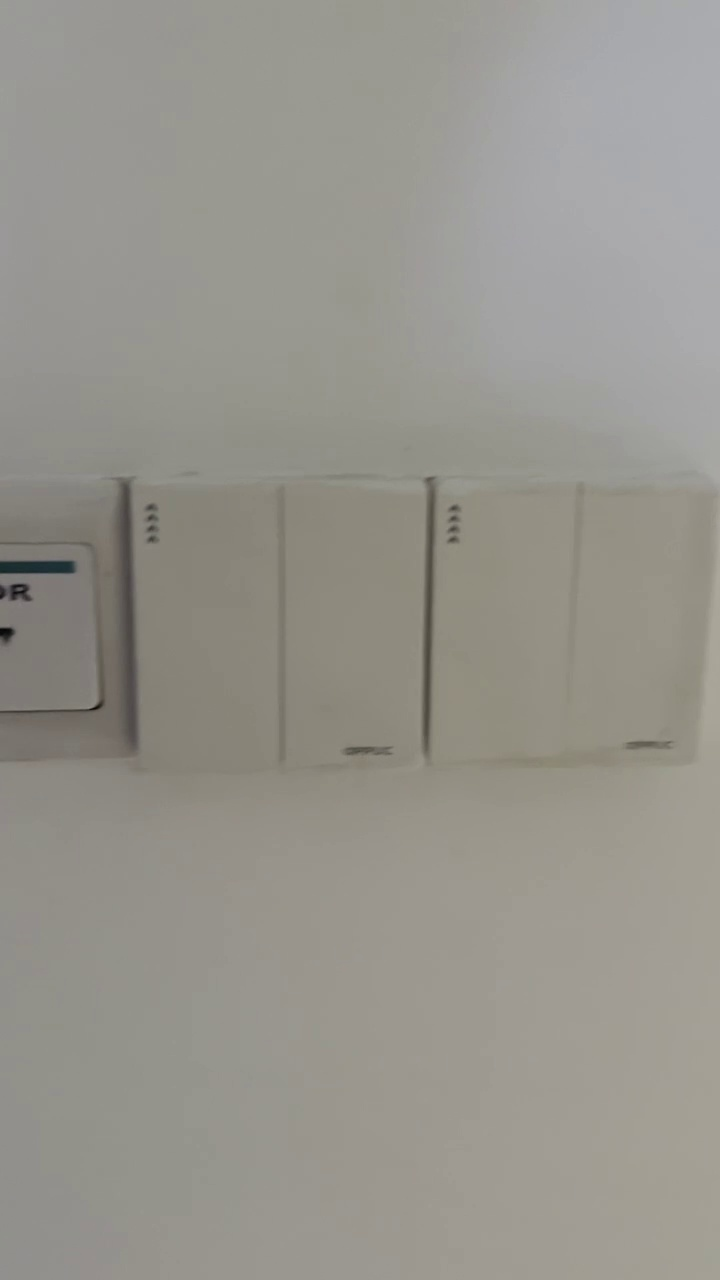button1: (138, 488, 278, 764), (289, 489, 424, 763), (436, 481, 566, 752), (576, 487, 696, 761)
